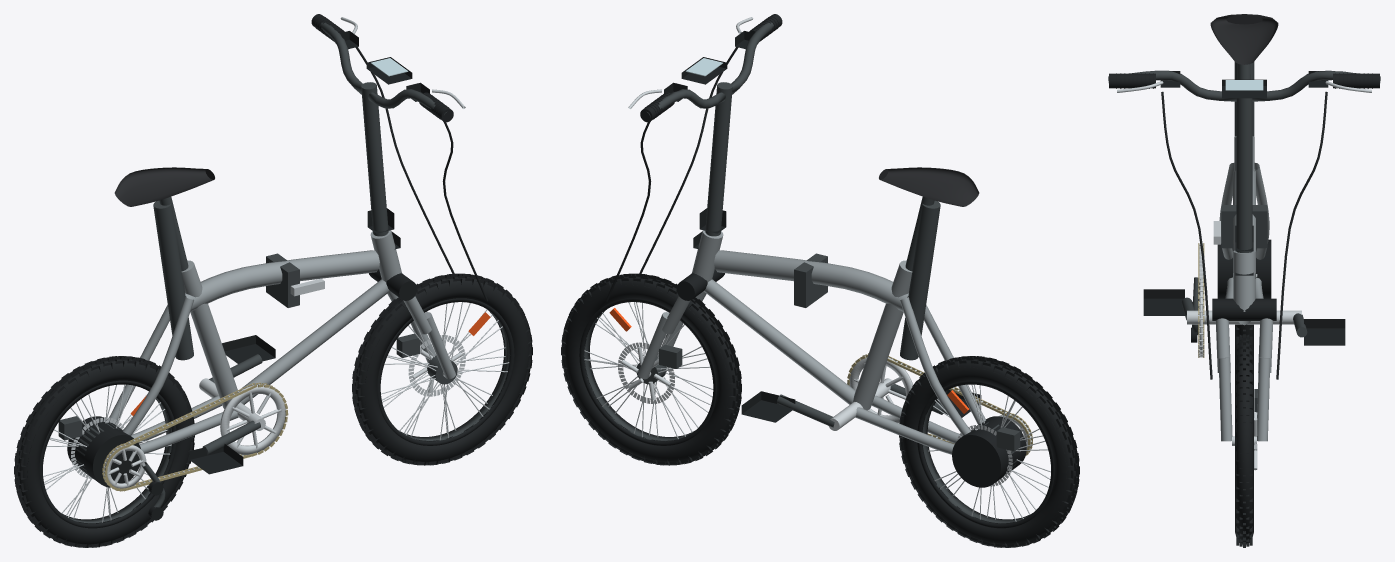
File: fiido-d21.glb
The picture shows the model from 3 angles, left to right: view 1: azimuth 30°, elevation 25°; view 2: azimuth 150°, elevation 25°; view 3: azimuth 270°, elevation 25°; orthographic projection. The views are drawn at different scales.
Visible parts, largest first — view 1: Chassis | grey, FrontWheel | rubber, RearWheel | rubber, Cockpit | graphite, Drive | steel, FrontWheel | steel, BatteryMount | graphite, Bodywork | seat, MotorMount | black, Drive | black, FrontWheel | black, RearWheel | black (+10 smaller); view 2: Chassis | grey, RearWheel | rubber, FrontWheel | rubber, Cockpit | graphite, FrontWheel | steel, MotorMount | black, BatteryMount | graphite, Bodywork | seat, FrontWheel | black, RearWheel | black, Drive | steel, RearWheel | steel (+10 smaller); view 3: Cockpit | graphite, FrontWheel | rubber, Chassis | grey, Fork | grey, Cockpit | rubber, Bodywork | seat, Drive | black, Cockpit | black, Chassis | graphite, Fork | black, MotorMount | black, Drive | steel (+5 smaller).
Part boxes in pixels (x1=…): Chassis | grey: x1=109, y1=230, x2=401, y2=453; FrontWheel | rubber: x1=352, y1=273, x2=532, y2=465; RearWheel | rubber: x1=14, y1=356, x2=194, y2=547; Cockpit | graphite: x1=320, y1=22, x2=446, y2=236; Drive | steel: x1=103, y1=378, x2=286, y2=488; FrontWheel | steel: x1=381, y1=302, x2=509, y2=440; BatteryMount | graphite: x1=153, y1=200, x2=193, y2=360; Bodywork | seat: x1=114, y1=167, x2=214, y2=206; MotorMount | black: x1=67, y1=416, x2=140, y2=487; Drive | black: x1=148, y1=335, x2=275, y2=520; FrontWheel | black: x1=377, y1=298, x2=514, y2=445; RearWheel | black: x1=39, y1=380, x2=176, y2=528; Chassis | grey: x1=692, y1=230, x2=985, y2=454; RearWheel | rubber: x1=899, y1=356, x2=1079, y2=547; FrontWheel | rubber: x1=561, y1=273, x2=741, y2=465; Cockpit | graphite: x1=647, y1=22, x2=773, y2=236; FrontWheel | steel: x1=584, y1=302, x2=713, y2=439; MotorMount | black: x1=952, y1=416, x2=1026, y2=487; BatteryMount | graphite: x1=900, y1=200, x2=940, y2=360; Bodywork | seat: x1=879, y1=167, x2=979, y2=206; FrontWheel | black: x1=579, y1=298, x2=716, y2=445; RearWheel | black: x1=917, y1=380, x2=1054, y2=528; Drive | steel: x1=829, y1=355, x2=1032, y2=452; RearWheel | steel: x1=928, y1=384, x2=1050, y2=521; Cockpit | graphite: x1=1108, y1=70, x2=1380, y2=252; FrontWheel | rubber: x1=1235, y1=334, x2=1253, y2=547; Chassis | grey: x1=1219, y1=136, x2=1269, y2=325; Fork | grey: x1=1215, y1=318, x2=1273, y2=441; Cockpit | rubber: x1=1109, y1=73, x2=1379, y2=379; Bodywork | seat: x1=1210, y1=14, x2=1278, y2=64; Drive | black: x1=1143, y1=289, x2=1345, y2=345; Cockpit | black: x1=1116, y1=71, x2=1372, y2=251; Chassis | graphite: x1=1221, y1=64, x2=1267, y2=248; Fork | black: x1=1212, y1=298, x2=1276, y2=320; MotorMount | black: x1=1217, y1=239, x2=1271, y2=298; Drive | steel: x1=1187, y1=243, x2=1301, y2=357.
Size of the model in its own units: 1.51 by 1.16 by 0.6634.
